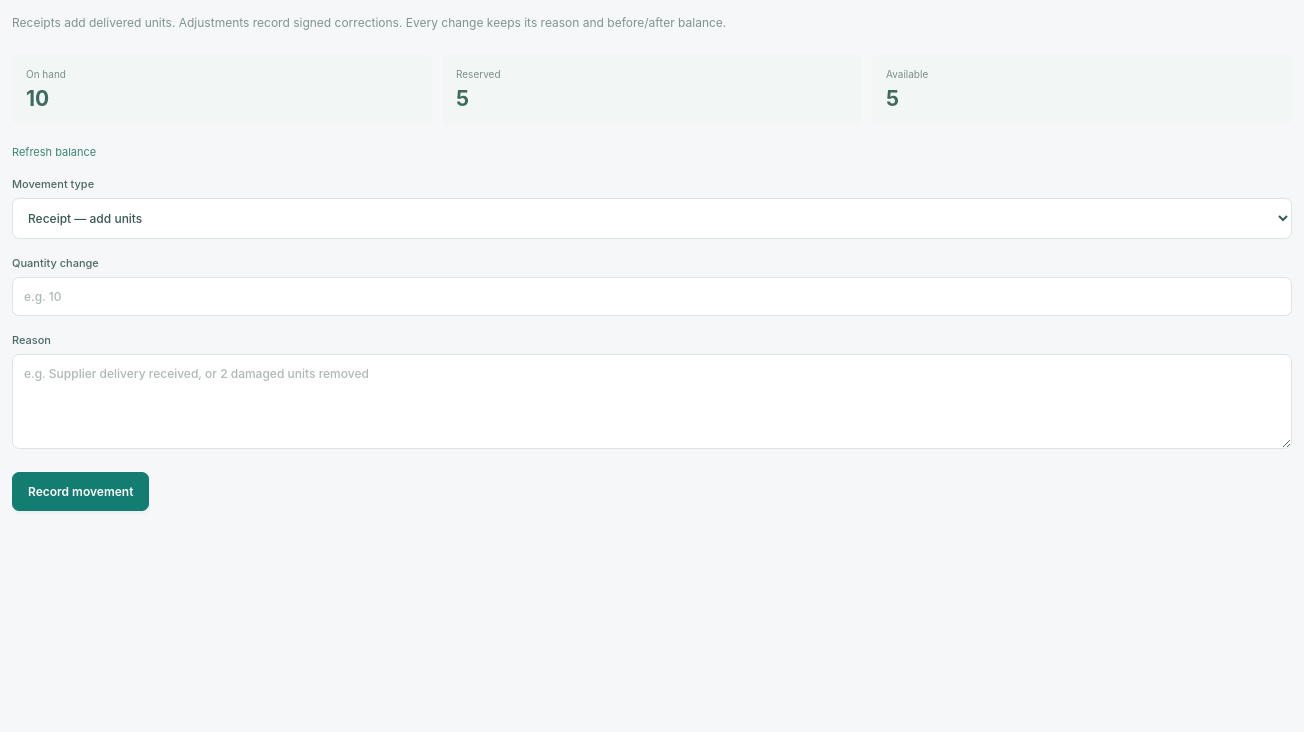
Order and inventory details › rejects a new adjustment that would consume reserved stock
The width and height of the screenshot is (1304, 732).
Check: the text "Available" is shown, box [886,68,928,80]
Select "Adjustment — signed correction" in the dropdown labelled "Movement type" at (652, 218), box [12,198,1292,239]
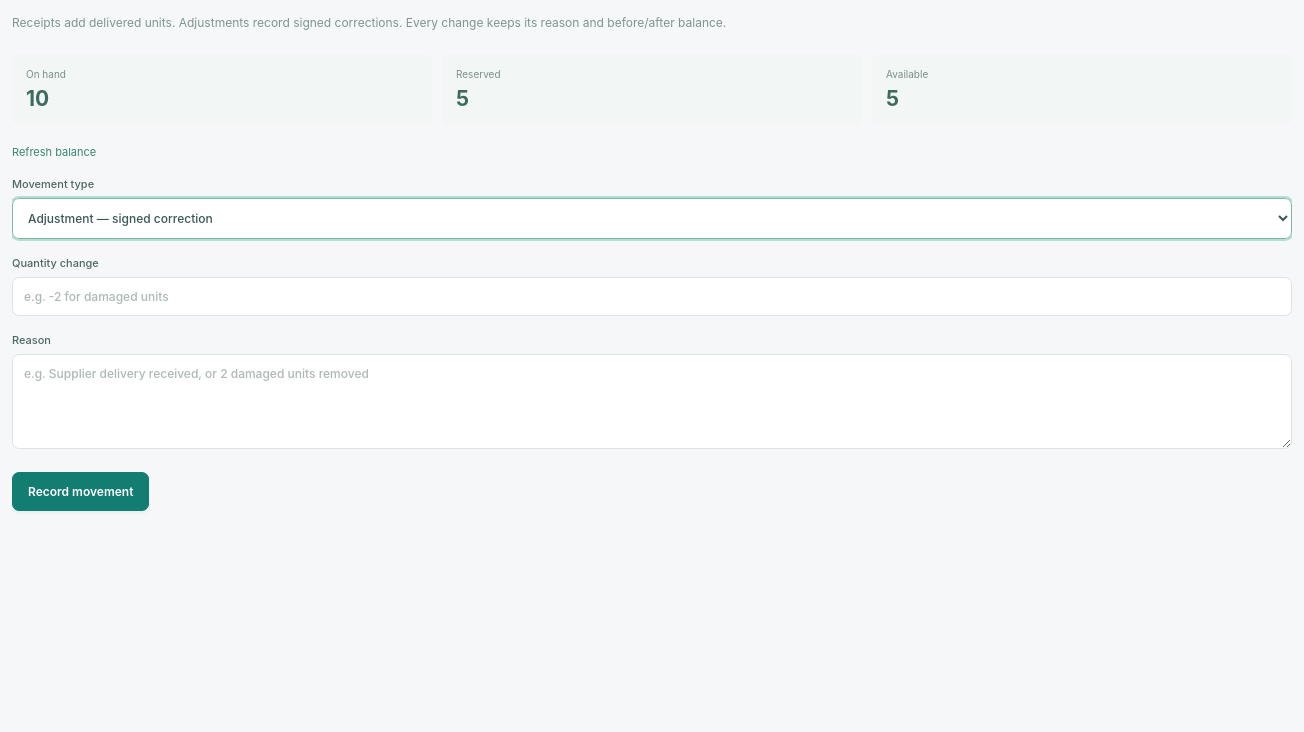
Type "-6" into the number field labelled "Quantity change" at (652, 296), box [12,277,1292,316]
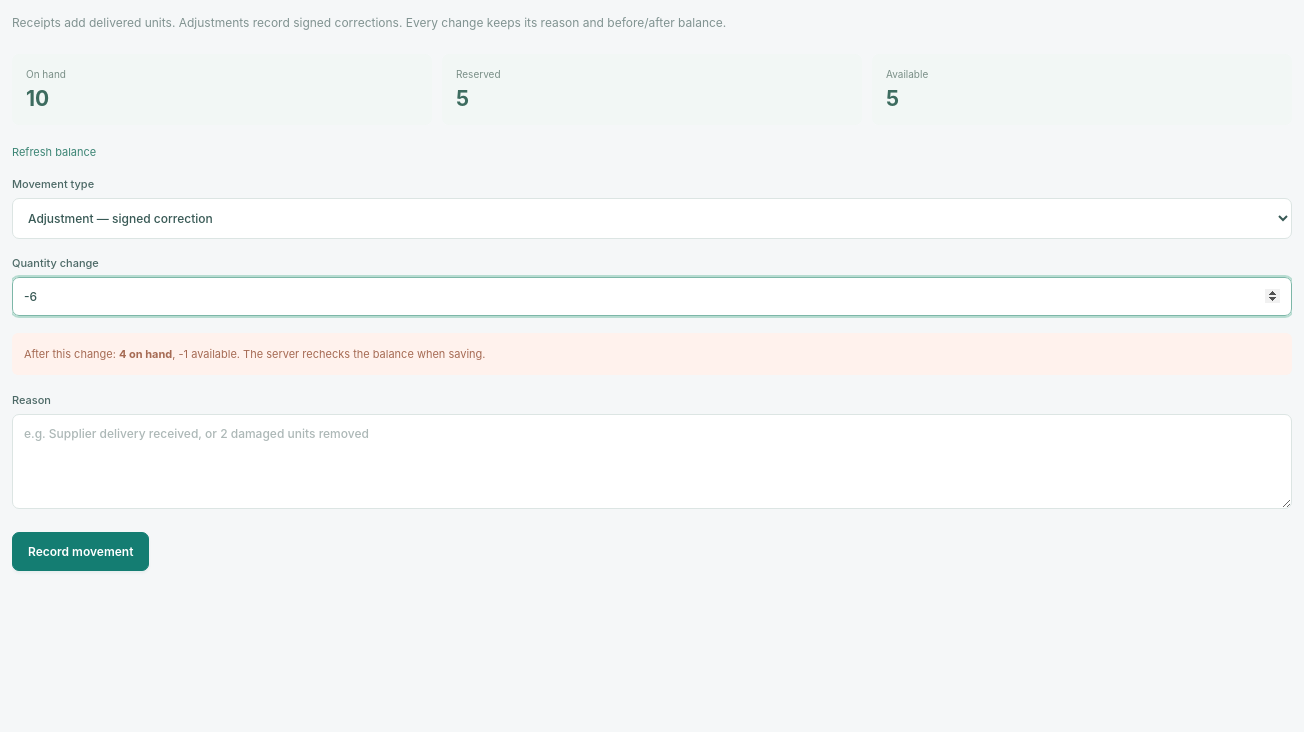
Type "Damaged units" into the text box labelled "Reason" at (652, 462), box [12,414,1292,509]
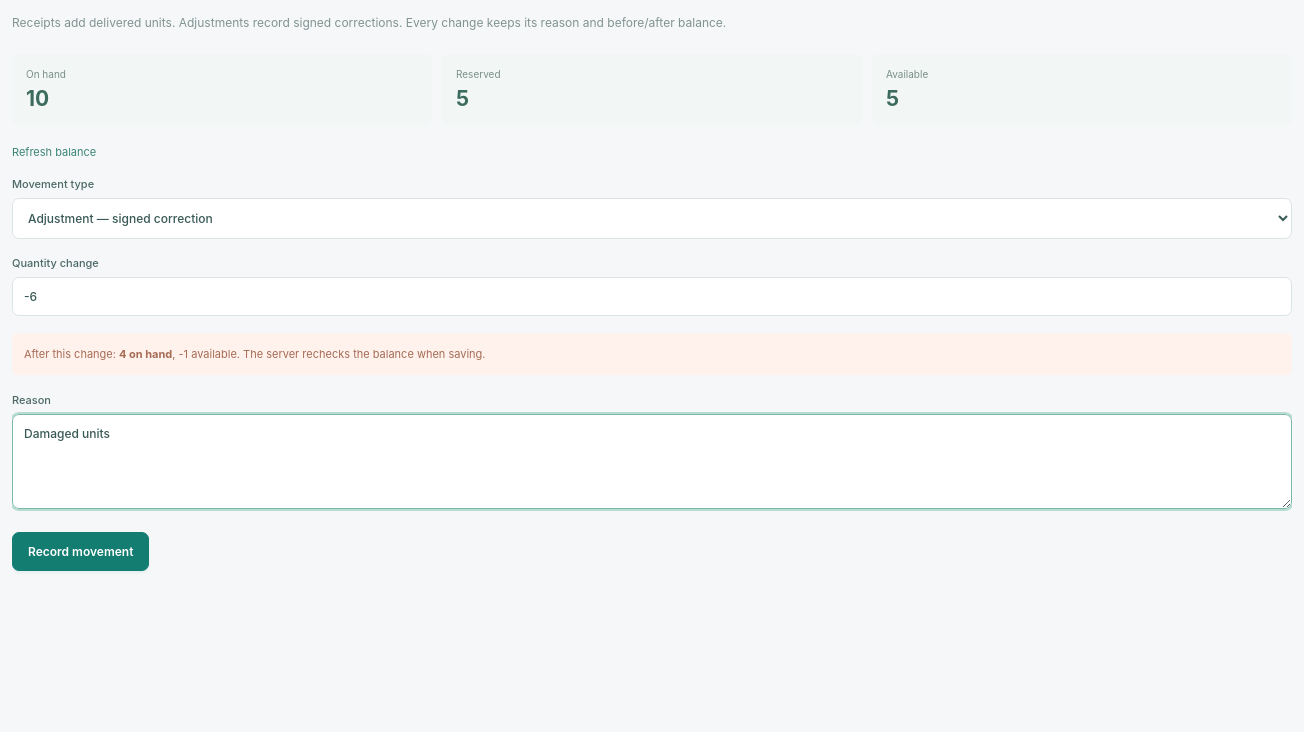
Click the button "Record movement" at (81, 552), box [12,532,149,571]
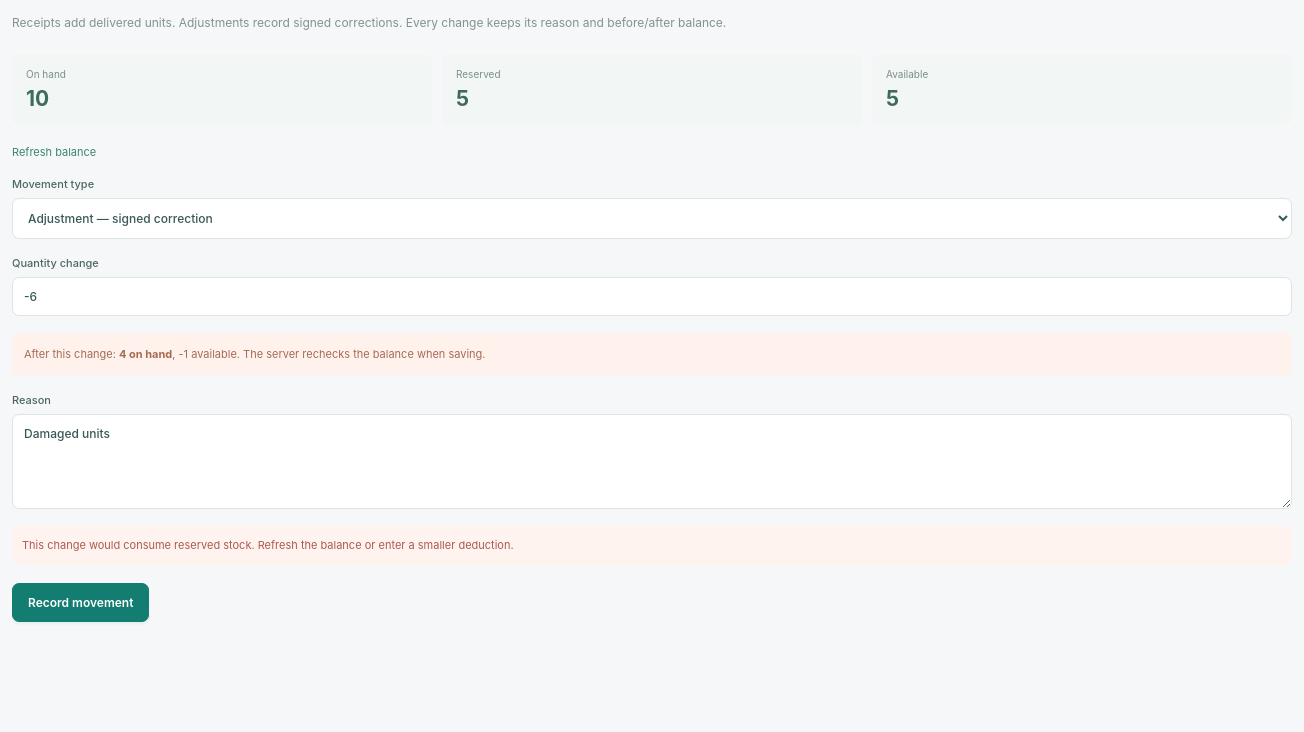
Check: the message shows "consume reserved stock", box [22,538,514,552]
